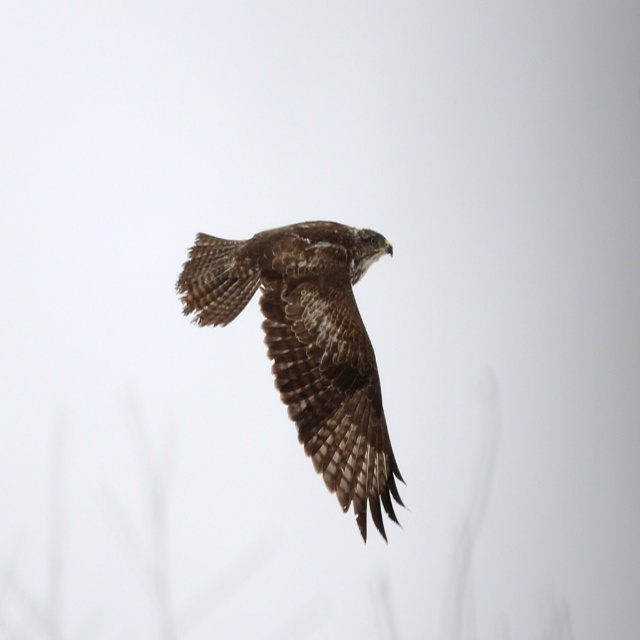Eagle: (173, 221, 412, 547)
